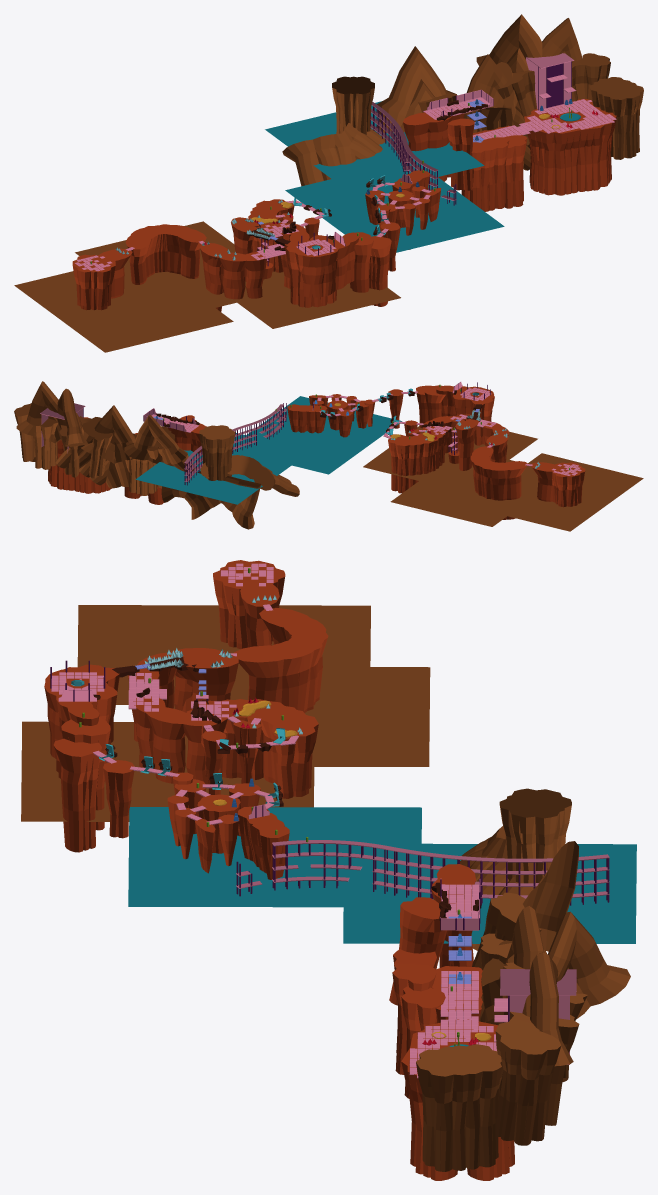
Rendered from Level_t3_binary.fbx.
The picture shows the model from 3 angles, top to bottom: view 1: azimuth 30°, elevation 25°; view 2: azimuth 150°, elevation 25°; view 3: azimuth 270°, elevation 25°; orthographic projection. The views are drawn at different scales.
Parts seen in each view (by area): view 1: MainPath_01 (×2), TerrainDesert_01 (×2), TerreinDesert_01, TerrainWater_02, FloorTile_01 (×2), Main_Path01, Structure_01 (×2), Columns_01, StructureOrb_01; view 2: TerrainDesert_01 (×2), MainPath_01 (×2), TerreinDesert_01, TerrainWater_02, Main_Path01, Structure_01 (×2), FloorTile_01 (×2), Columns_01, RocksPath_01; view 3: MainPath_01 (×2), TerrainDesert_01 (×2), TerreinDesert_01, TerrainWater_02, FloorTile_01 (×3), Main_Path01, Structure_01 (×2), Columns_01, RocksPath_01.
Part boxes in pixels (x1,y1,x2,y2): MainPath_01 (×2): (72, 99, 616, 311); TerrainDesert_01 (×2): (282, 14, 643, 186); TerreinDesert_01: (14, 221, 400, 352); TerrainWater_02: (265, 101, 504, 252); FloorTile_01 (×2): (75, 74, 616, 271); Main_Path01: (365, 170, 441, 271); Structure_01 (×2): (370, 53, 574, 200); Columns_01: (370, 106, 456, 205); StructureOrb_01: (547, 63, 562, 107); TerrainDesert_01 (×2): (14, 381, 299, 529); MainPath_01 (×2): (48, 385, 585, 519); TerreinDesert_01: (363, 426, 643, 531); TerrainWater_02: (135, 396, 401, 504); Main_Path01: (287, 389, 403, 437); Structure_01 (×2): (40, 402, 314, 481); FloorTile_01 (×2): (317, 387, 581, 475); Columns_01: (184, 402, 313, 485); RocksPath_01: (386, 390, 482, 432); MainPath_01 (×2): (44, 560, 514, 1180); TerrainDesert_01 (×2): (416, 788, 630, 1171); TerreinDesert_01: (21, 605, 430, 821); TerrainWater_02: (128, 807, 636, 943); FloorTile_01 (×3): (51, 563, 507, 1078); Main_Path01: (103, 760, 289, 879); Structure_01 (×2): (236, 804, 609, 1064); Columns_01: (236, 804, 609, 905); RocksPath_01: (93, 657, 271, 753).
Size of the model in its own units: 472 by 101 by 242.
